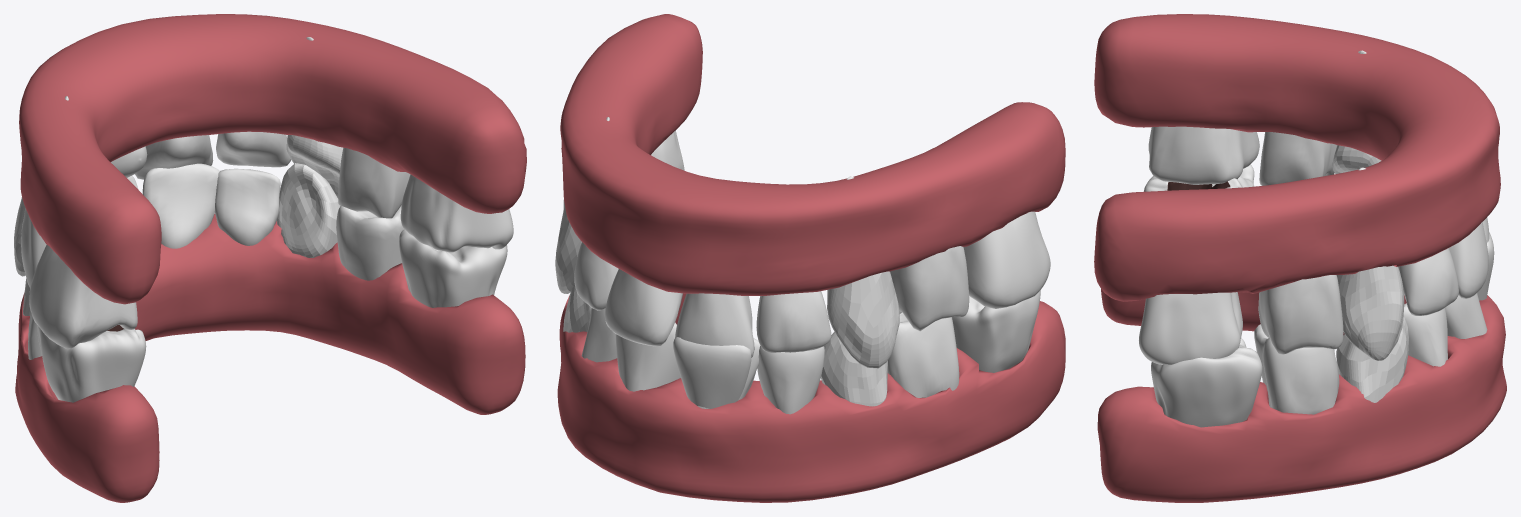
File: tooth remeshed.fbx
3 renders of one model, left to right at view 1: azimuth 30°, elevation 25°; view 2: azimuth 150°, elevation 25°; view 3: azimuth 270°, elevation 25°, orthographic.
Parts seen in each view (by area): view 1: Retopo_Torus.005, Retopo_Torus.006, Retopo_LU_Molar, caries, RB_Molar, RU_Molar, Retopo_RB_Insicivus1, Retopo_RB_Canine, Retopo_RB_Insicivus, Retopo_RB_PreMolar, Retopo_RU_PreMolar, Retopo_RU_Insicivus2 (+5 smaller); view 2: Retopo_Torus.005, Retopo_Torus.006, Retopo_LU_Molar, Retopo_LU_Canine, Retopo_LU_PreMolar, caries, Retopo_LB_PreMolar, Retopo_LB_Insicivus1.003, Retopo_RU_Insicivus1.001, Retopo_LU_Insicivus2, Retopo_LU_Insicivus1, Retopo_LB_Insicivus2.001 (+7 smaller); view 3: Retopo_Torus.005, Retopo_Torus.006, RB_Molar, RU_Molar, Retopo_LU_Molar, Retopo_RU_PreMolar, Retopo_RU_Canine, Retopo_RB_PreMolar, Retopo_LU_PreMolar, Retopo_RB_Canine, Retopo_RU_Insicivus2, Retopo_RB_Insicivus (+4 smaller).
Boxes of the visible parts, x1,y1,x2,y2 form: Retopo_Torus.005: [19, 14, 526, 304]; Retopo_Torus.006: [15, 214, 525, 502]; Retopo_LU_Molar: [29, 245, 137, 348]; caries: [37, 325, 146, 402]; RB_Molar: [399, 229, 507, 307]; RU_Molar: [400, 174, 513, 252]; Retopo_RB_Insicivus1: [142, 163, 219, 248]; Retopo_RB_Canine: [276, 163, 340, 257]; Retopo_RB_Insicivus: [214, 168, 280, 245]; Retopo_RB_PreMolar: [336, 205, 403, 280]; Retopo_RU_PreMolar: [338, 147, 410, 218]; Retopo_RU_Insicivus2: [216, 131, 290, 167]; Retopo_Torus.005: [560, 14, 1065, 295]; Retopo_Torus.006: [557, 293, 1065, 502]; Retopo_LU_Molar: [963, 211, 1050, 308]; Retopo_LU_Canine: [827, 176, 899, 368]; Retopo_LU_PreMolar: [890, 246, 969, 331]; caries: [952, 290, 1040, 372]; Retopo_LB_PreMolar: [887, 312, 959, 397]; Retopo_LB_Insicivus1.003: [673, 337, 751, 408]; Retopo_RU_Insicivus1.001: [604, 269, 682, 346]; Retopo_LU_Insicivus2: [756, 291, 831, 352]; Retopo_LU_Insicivus1: [675, 293, 754, 357]; Retopo_LB_Insicivus2.001: [757, 346, 824, 414]; Retopo_Torus.005: [1094, 14, 1500, 301]; Retopo_Torus.006: [1097, 289, 1506, 502]; RB_Molar: [1151, 337, 1262, 427]; RU_Molar: [1139, 292, 1242, 364]; Retopo_LU_Molar: [1148, 126, 1259, 184]; Retopo_RU_PreMolar: [1258, 275, 1343, 354]; Retopo_RU_Canine: [1337, 167, 1404, 360]; Retopo_RB_PreMolar: [1254, 324, 1339, 414]; Retopo_LU_PreMolar: [1259, 132, 1337, 185]; Retopo_RB_Canine: [1336, 316, 1408, 402]; Retopo_RU_Insicivus2: [1398, 248, 1458, 315]; Retopo_RB_Insicivus: [1403, 303, 1447, 366].
Size of the model in its own units: 13.49 by 8.72 by 10.85.
